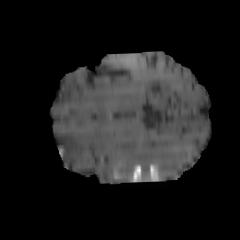glioma: (71, 131, 188, 186)
